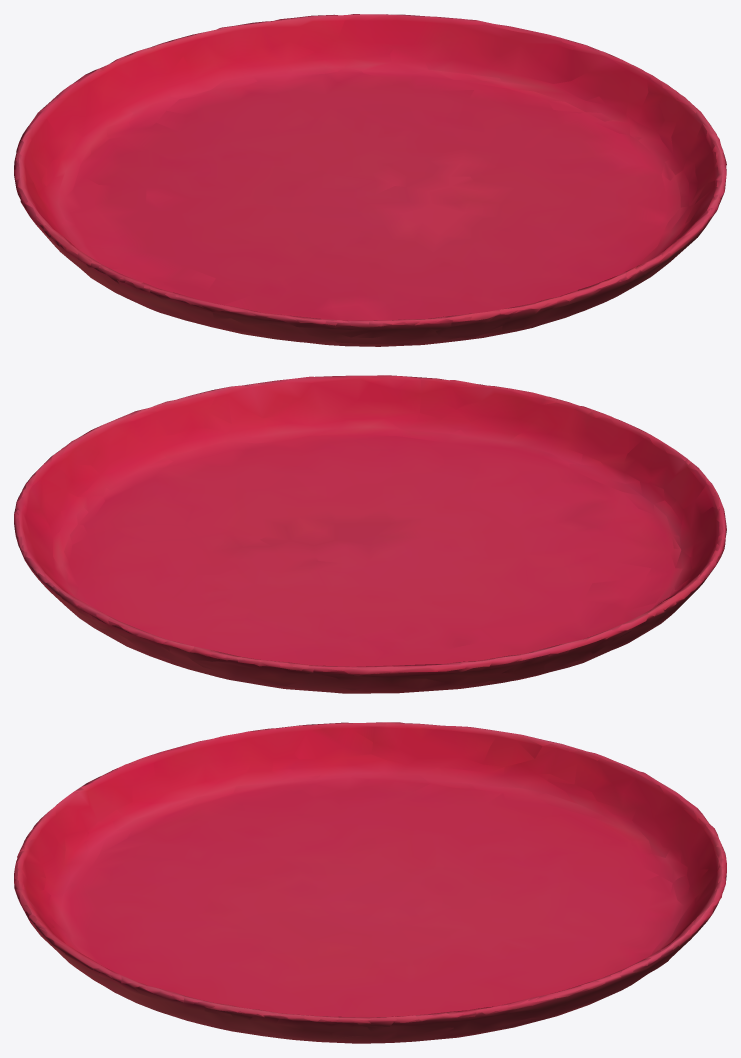
The model's file is 0006_mask_007_red_plate.glb.
3 renders of one model, top to bottom at view 1: azimuth 30°, elevation 25°; view 2: azimuth 150°, elevation 25°; view 3: azimuth 270°, elevation 25°, orthographic.
Visible parts, largest first — view 1: mask_007_object; view 2: mask_007_object; view 3: mask_007_object.
Part boxes in pixels (<box>): mask_007_object: <box>14,14,726,346</box>; mask_007_object: <box>14,375,726,693</box>; mask_007_object: <box>14,722,726,1043</box>.
Size of the model in its own units: 0.3207 by 0.0261 by 0.321.
